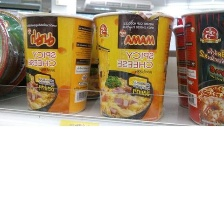paper_cup: (86, 6, 179, 124), (14, 9, 99, 117), (175, 4, 224, 125)
